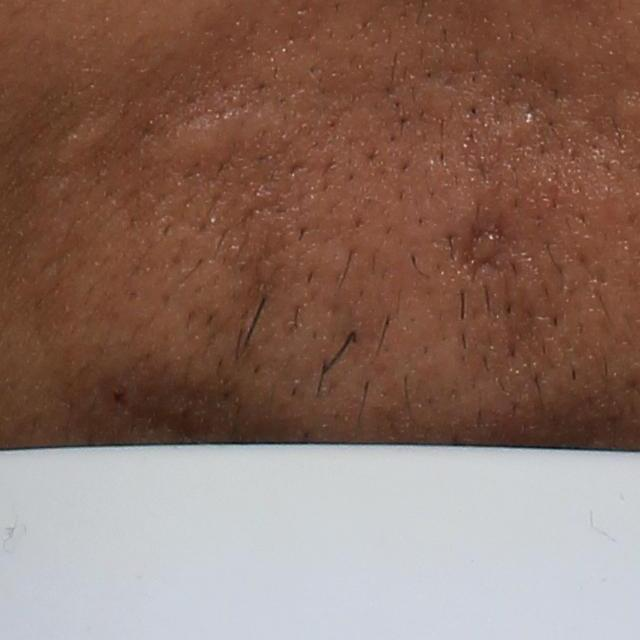atrophic_scar: (455, 227, 507, 278)
hypertrophic_scar: (137, 95, 297, 171), (58, 103, 128, 165)
